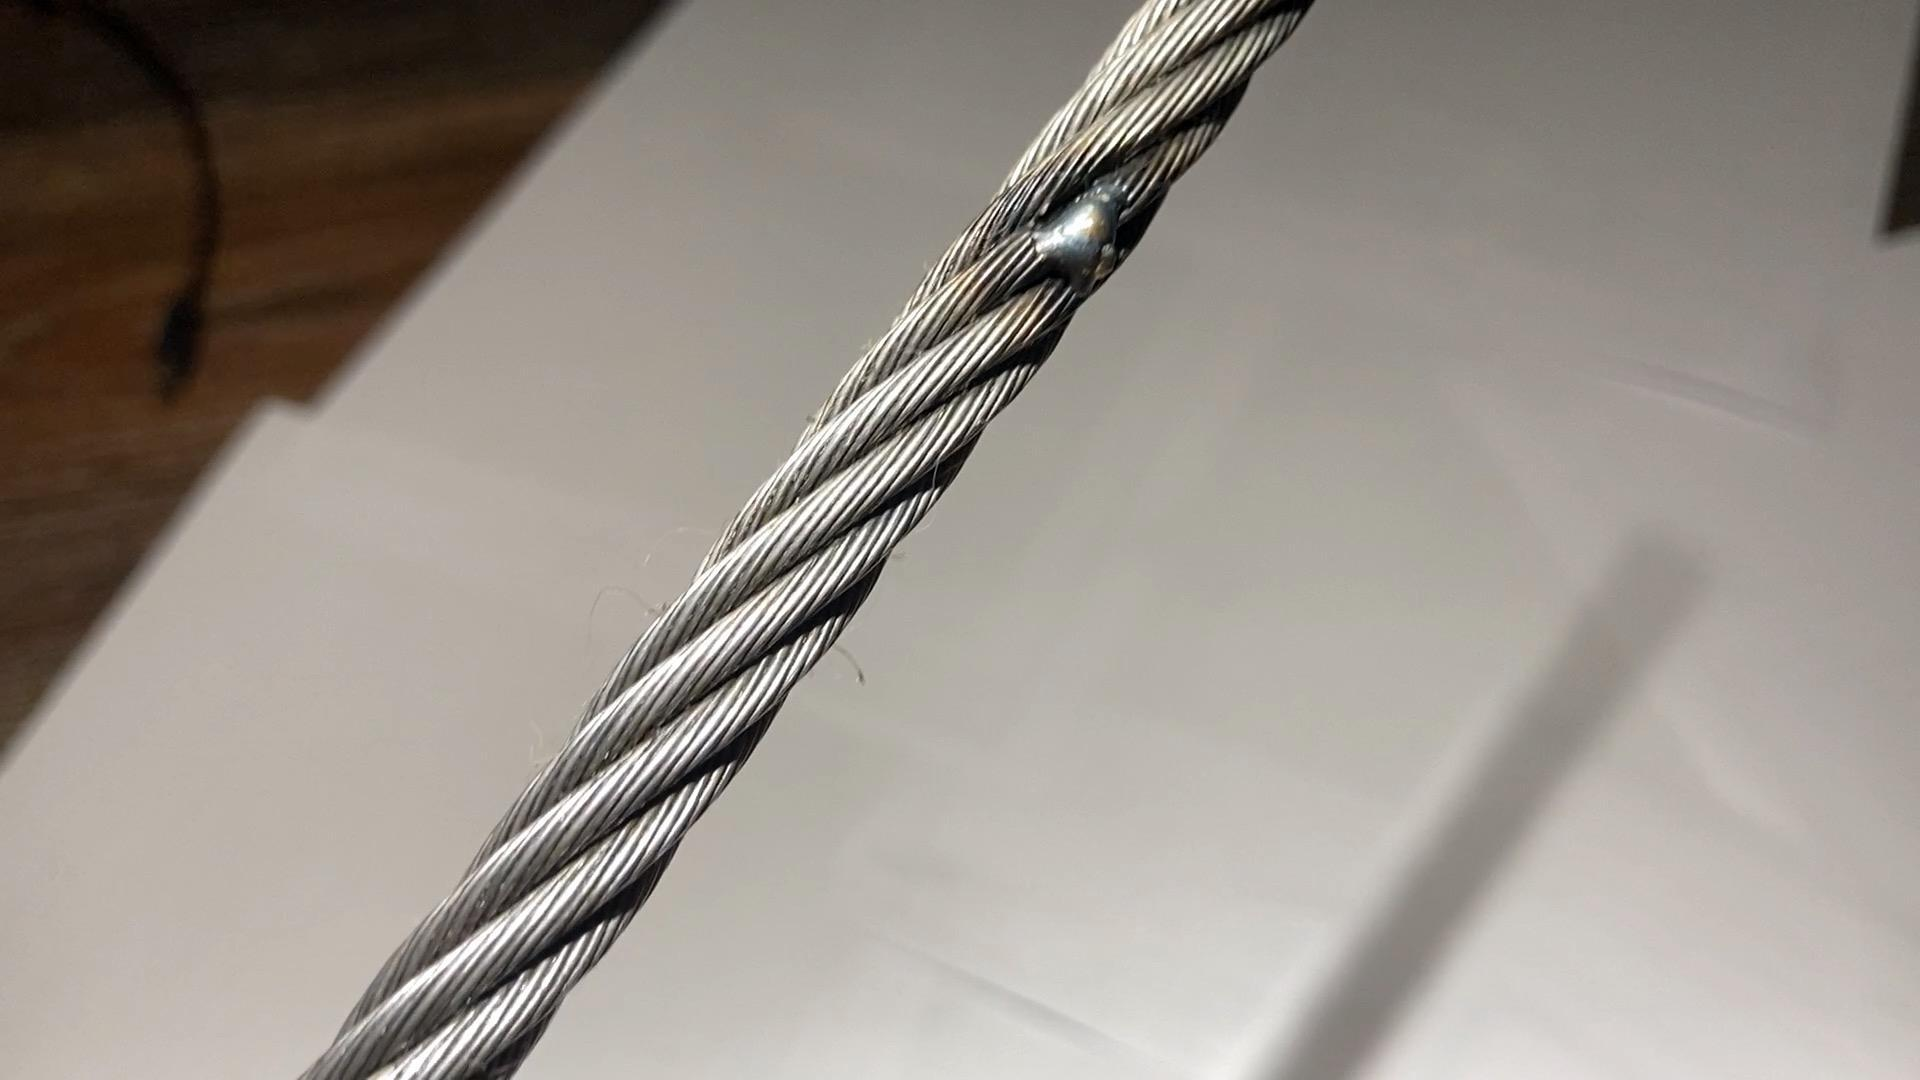thunderbolt: (1035, 173, 1154, 290)
